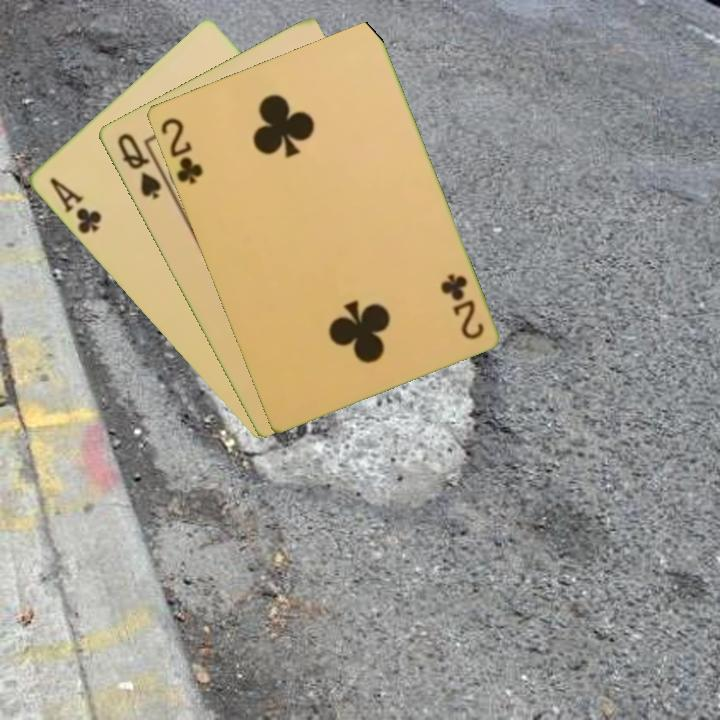2c: (156, 113, 206, 187), (438, 269, 486, 343)
Ac: (45, 173, 104, 237)
Qs: (113, 129, 164, 203)
